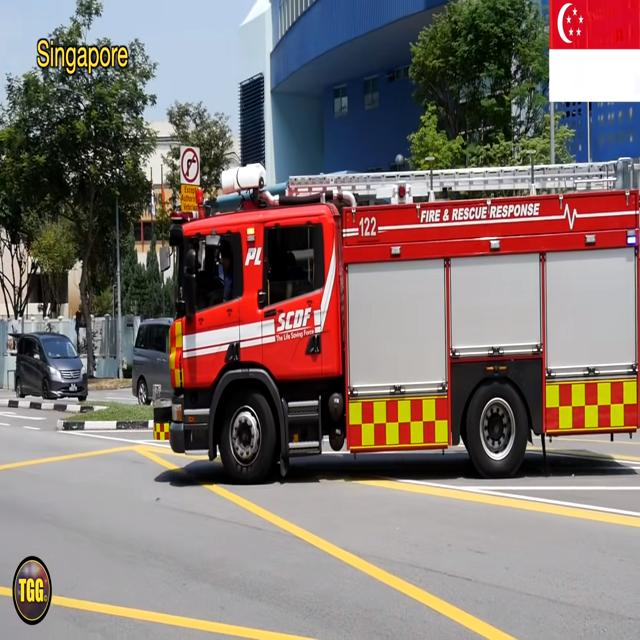emergency-vehicles: (160, 148, 640, 510)
